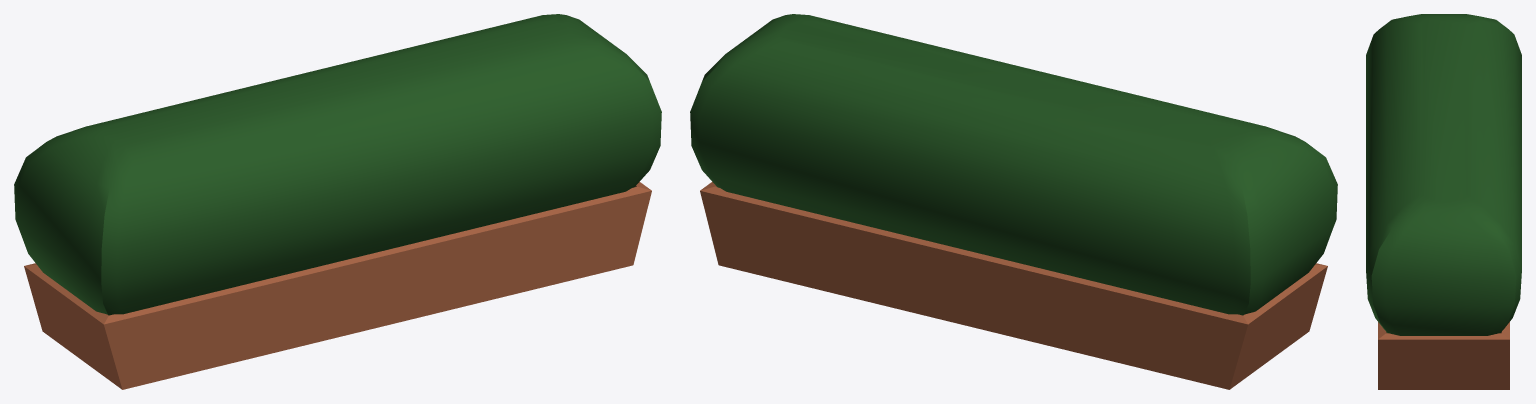
File: object_B3_Plants_001.glb
3 renders of one model, left to right at view 1: azimuth 30°, elevation 25°; view 2: azimuth 150°, elevation 25°; view 3: azimuth 270°, elevation 25°, orthographic. The views are drawn at different scales.
Parts seen in each view (by area): view 1: B3 Plants.001; view 2: B3 Plants.001; view 3: B3 Plants.001.
Part boxes in pixels (box(x1,y1,x2,y2)): B3 Plants.001: box(14, 14, 661, 389); B3 Plants.001: box(690, 14, 1337, 389); B3 Plants.001: box(1366, 14, 1521, 389).
Bounding box in the file's own units: 1.01 × 0.3635 × 0.2896.
